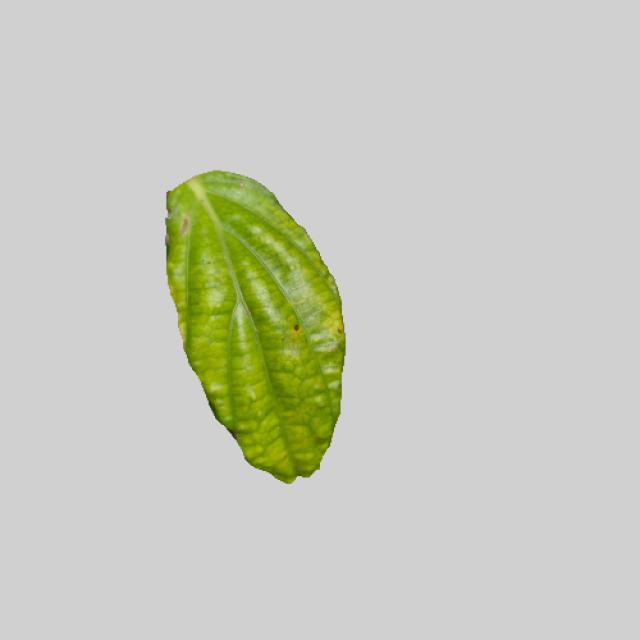yellow-mottle-virus: (154, 166, 348, 479)
